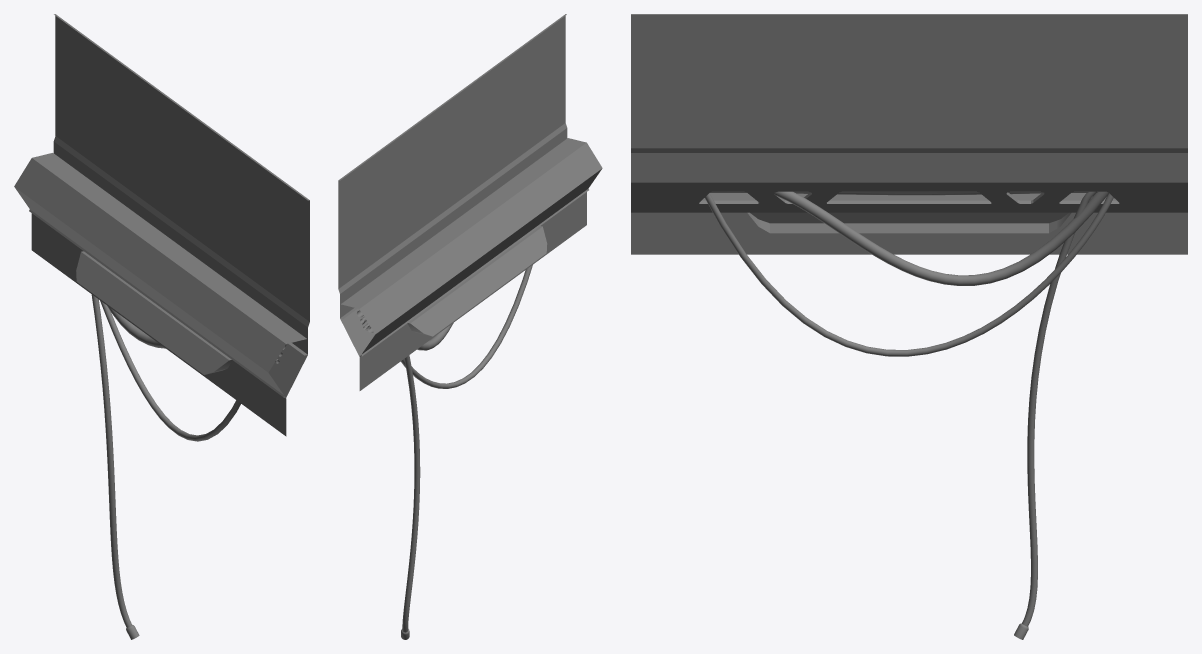
The model's file is q-scifi-mod-topcables-straight-hanging.glb.
3 renders of one model, left to right at view 1: azimuth 30°, elevation 25°; view 2: azimuth 150°, elevation 25°; view 3: azimuth 270°, elevation 25°, orthographic. The views are drawn at different scales.
Parts seen in each view (by area): view 1: TopCables_Straight_Hanging; view 2: TopCables_Straight_Hanging; view 3: TopCables_Straight_Hanging.
Part boxes in pixels (bbox=[...]): TopCables_Straight_Hanging: bbox=[14, 14, 309, 639]; TopCables_Straight_Hanging: bbox=[338, 14, 602, 639]; TopCables_Straight_Hanging: bbox=[631, 14, 1187, 639].
Size of the model in its own units: 0.4421 by 4.94 by 4.
Materials: 4 (4 with a texture image).
